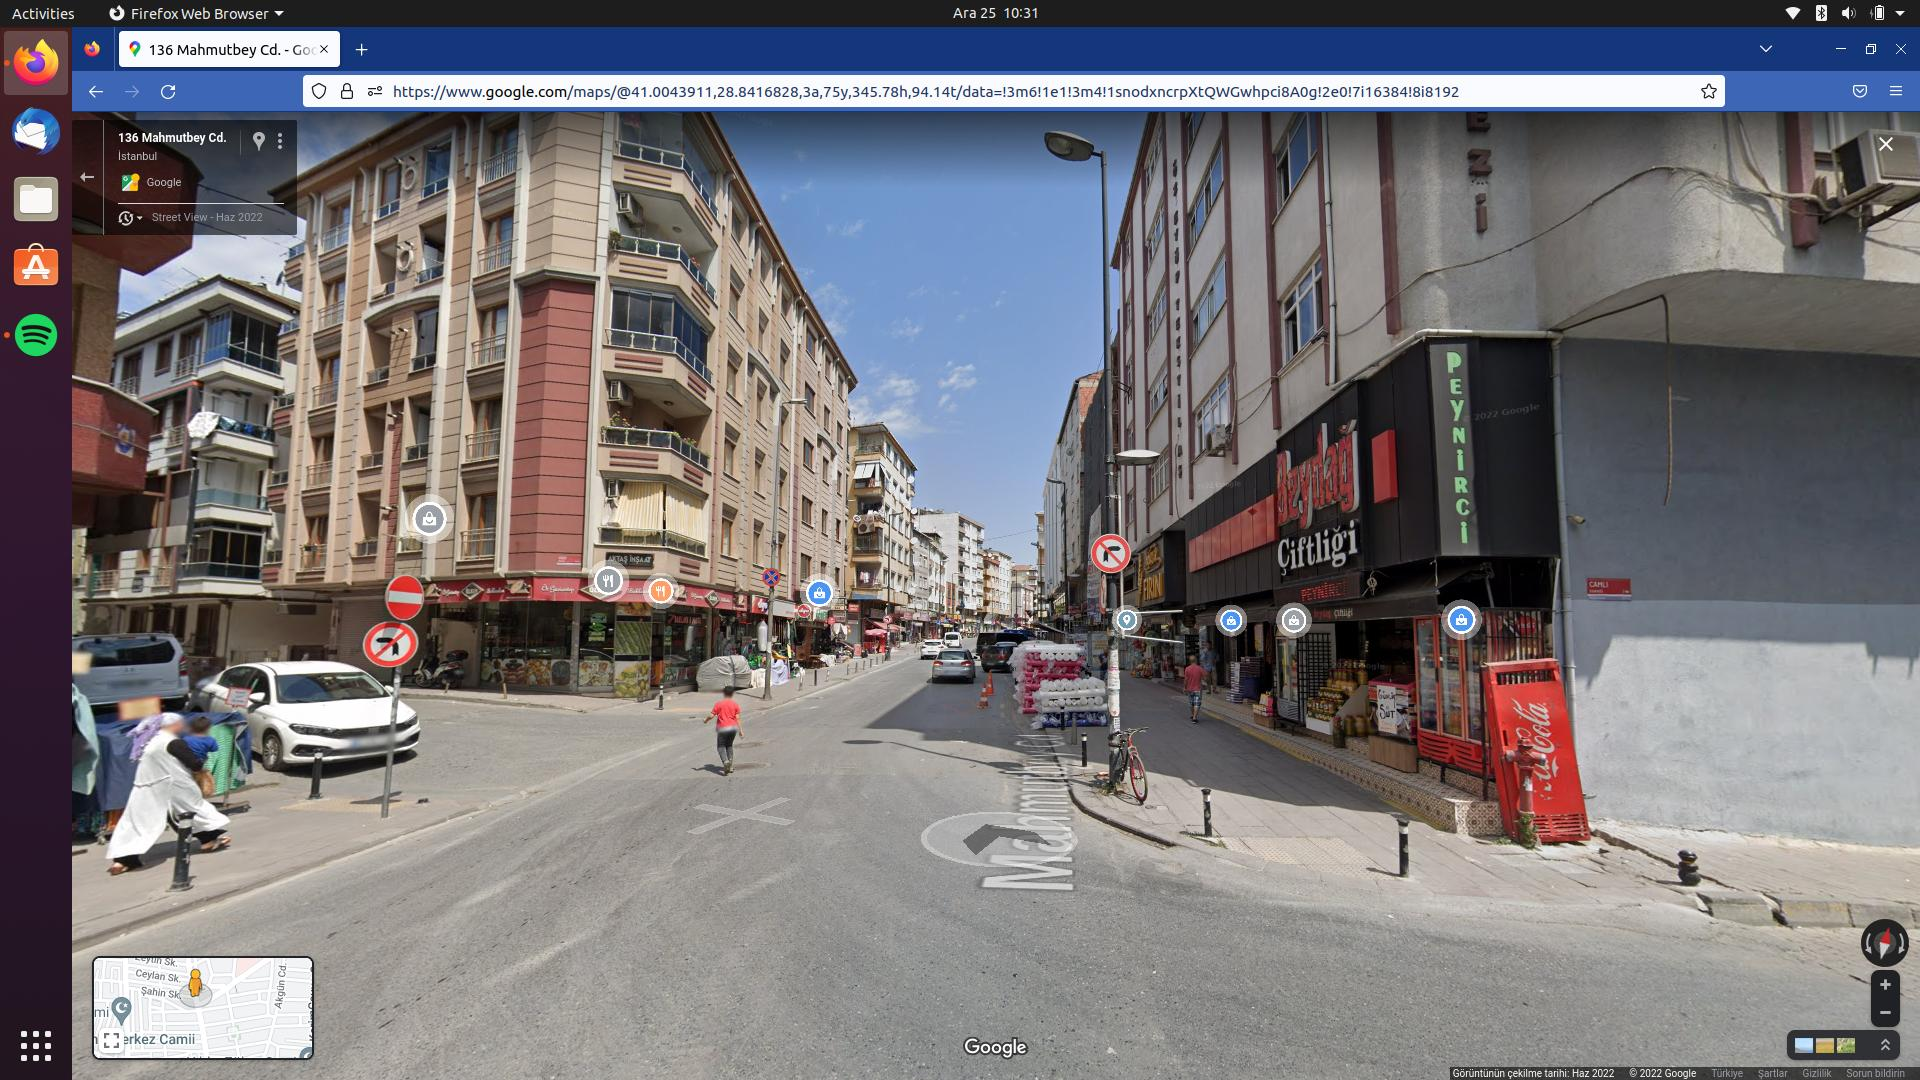leftturnsareforbidden: (361, 621, 419, 669)
rightturnsareforbidden: (1092, 534, 1129, 574)
